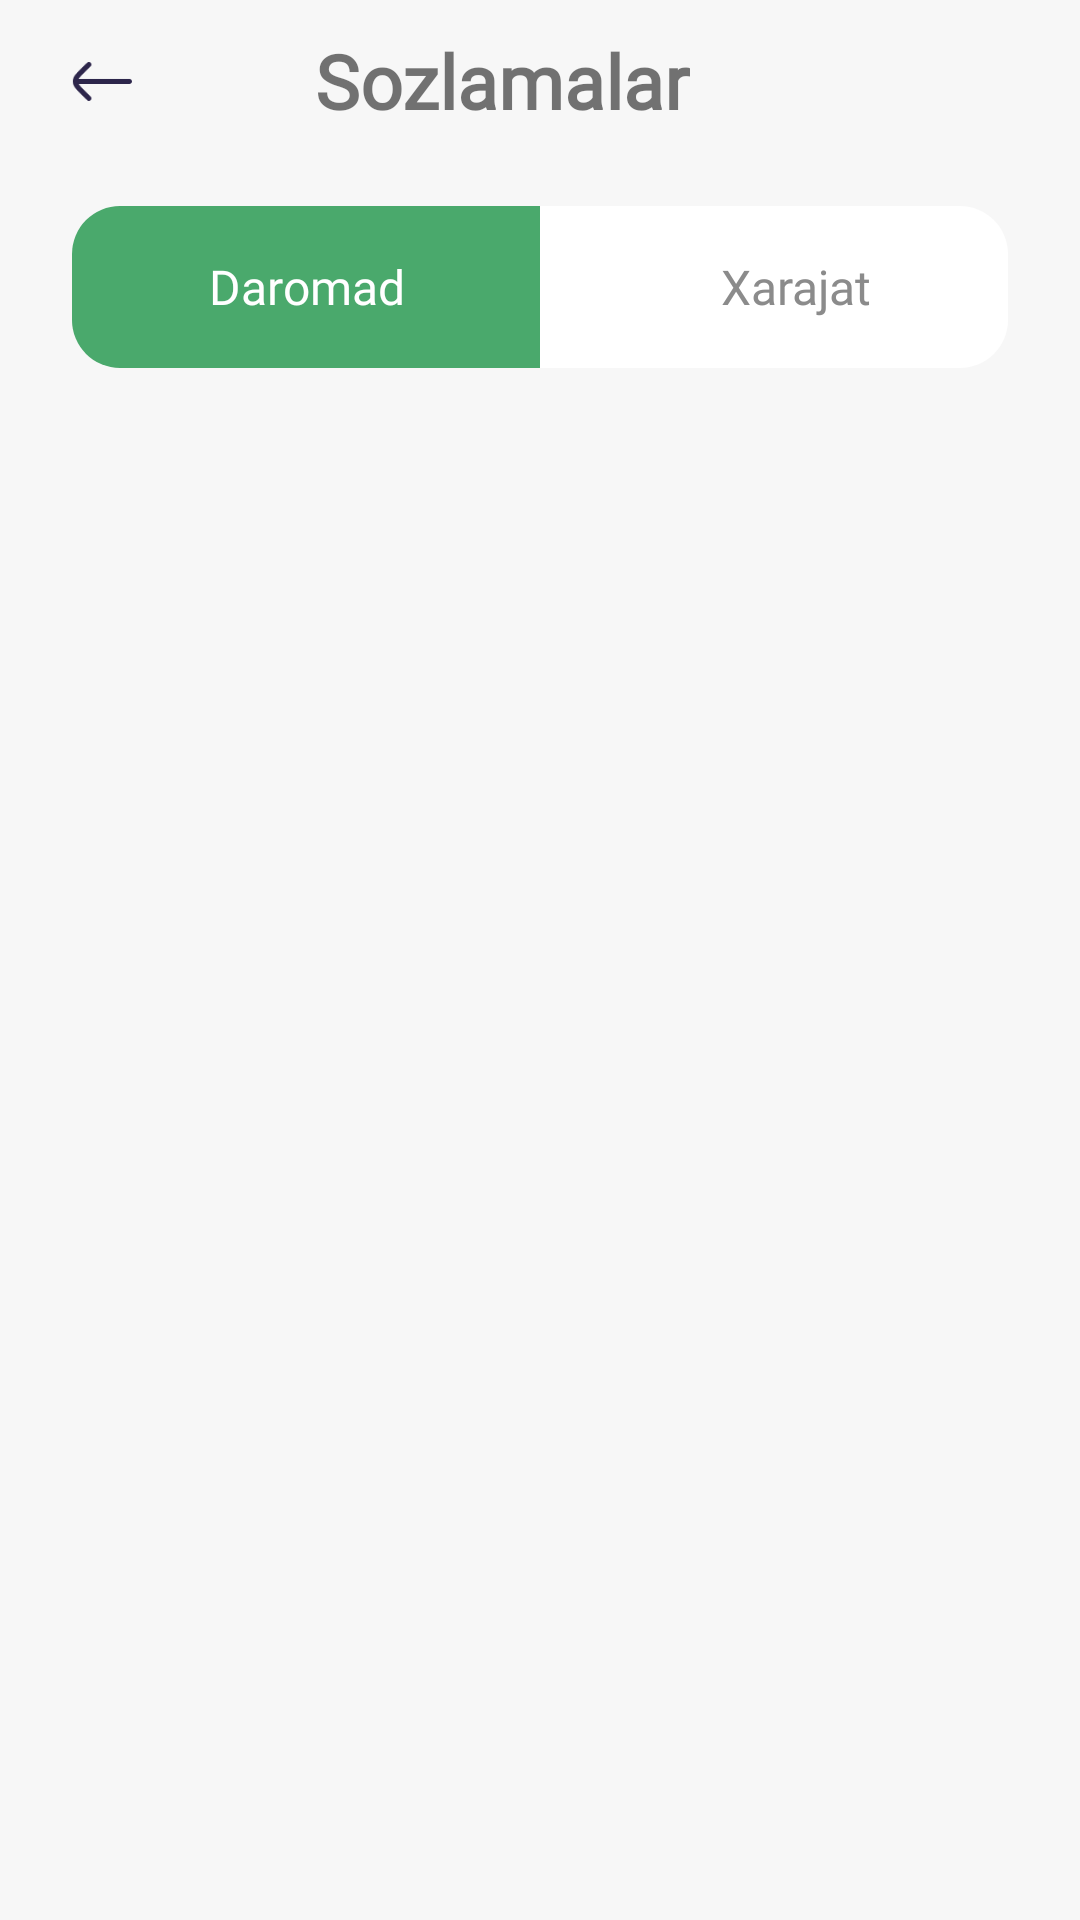

Icons on this 1080 × 1920 Android screen, each with its box as detection(x1, y1, x2, y2):
back round: detection(73, 62, 132, 101)
